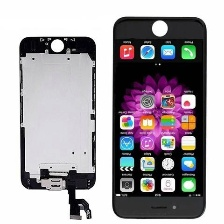phone: (109, 13, 209, 221), (17, 32, 99, 192)
